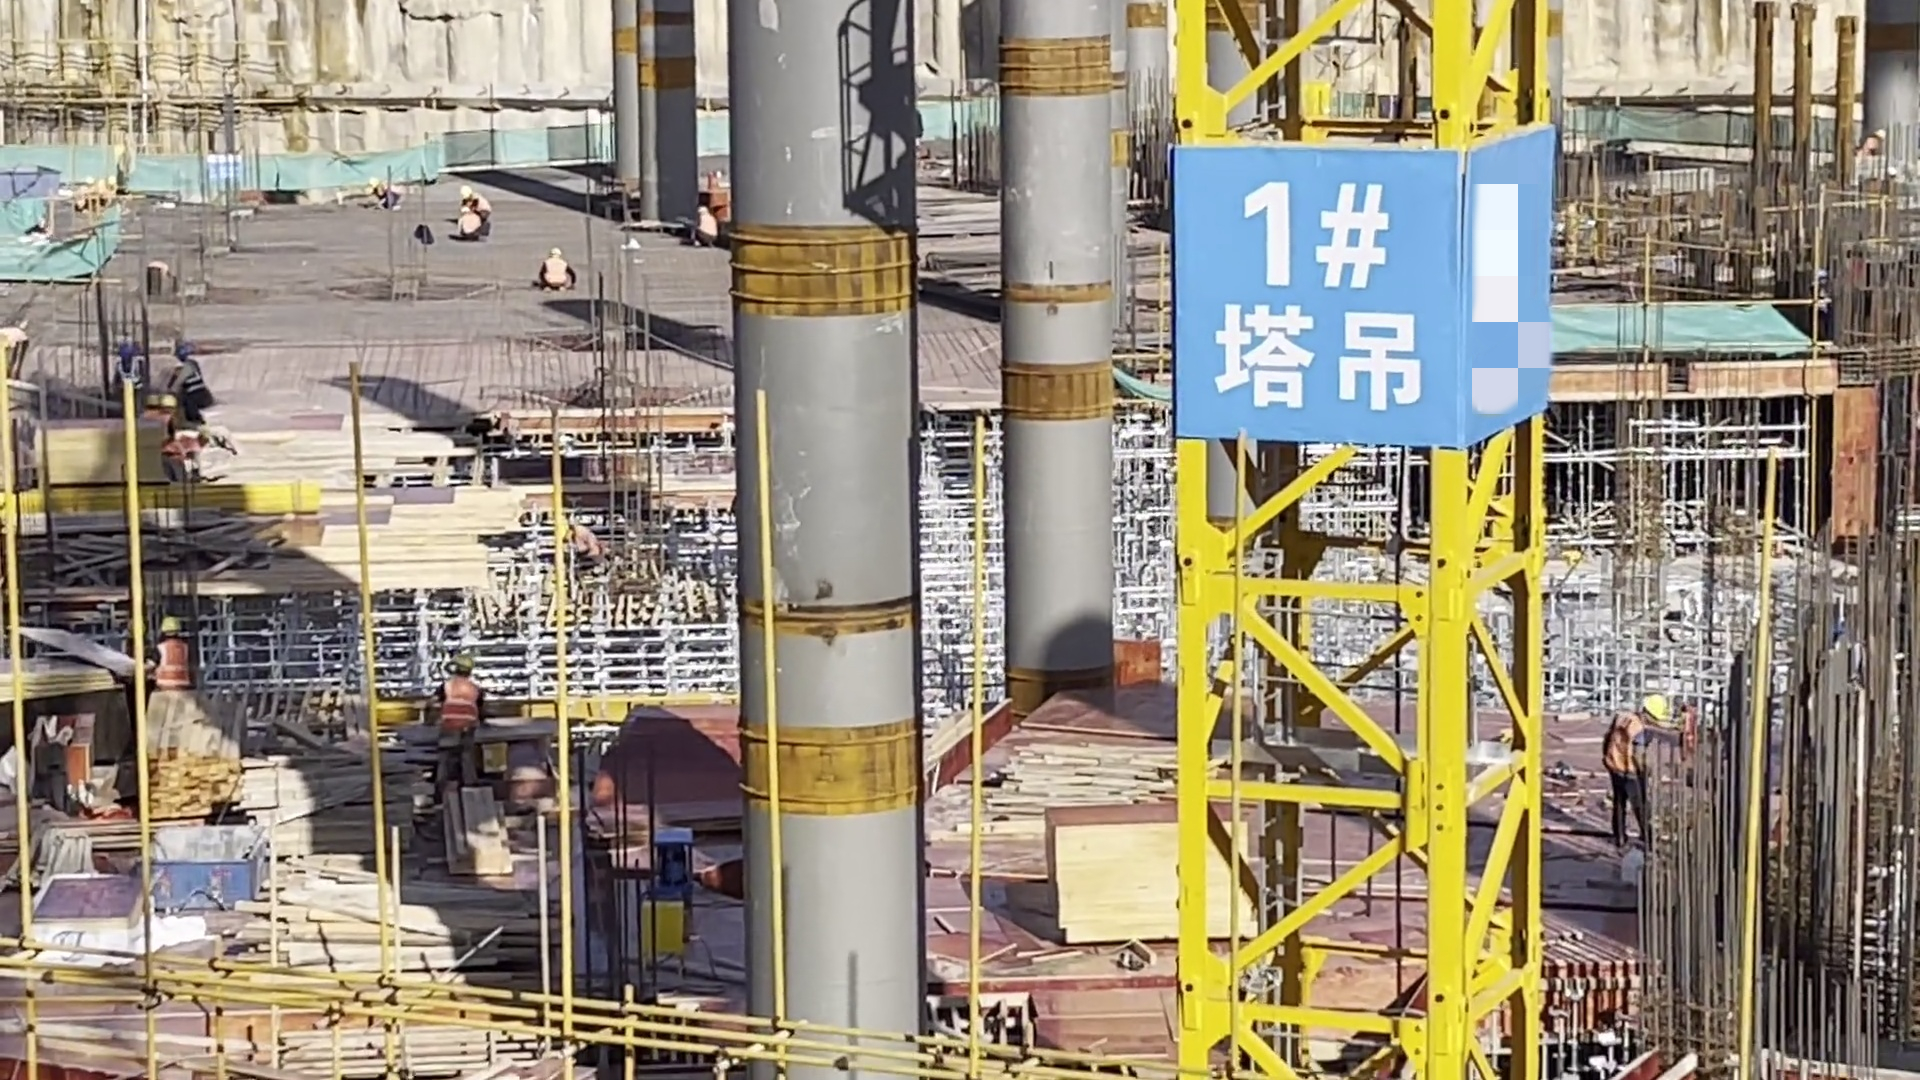board: (1037, 804, 1273, 954), (26, 412, 147, 497), (1, 643, 118, 726)
helmet: (1640, 691, 1667, 724), (450, 654, 474, 680), (161, 615, 184, 639), (173, 342, 199, 364), (161, 395, 181, 413), (121, 341, 137, 359), (368, 174, 383, 193), (546, 245, 564, 260), (460, 182, 475, 199), (698, 204, 712, 218)
hopper: (148, 820, 272, 914)
person: (1605, 691, 1663, 866), (441, 645, 488, 786), (151, 613, 201, 709), (172, 336, 211, 438), (147, 386, 188, 481), (534, 237, 580, 305), (163, 428, 214, 486), (116, 338, 143, 418), (458, 179, 498, 230), (684, 205, 727, 251), (368, 174, 405, 213), (450, 208, 488, 245)
slogan: (1177, 139, 1547, 434)
vest: (1604, 710, 1651, 789), (442, 676, 485, 745), (154, 637, 196, 691), (164, 433, 201, 460), (541, 257, 571, 290), (118, 360, 145, 393)
wood: (266, 860, 595, 977), (131, 684, 256, 832), (443, 781, 518, 891)
